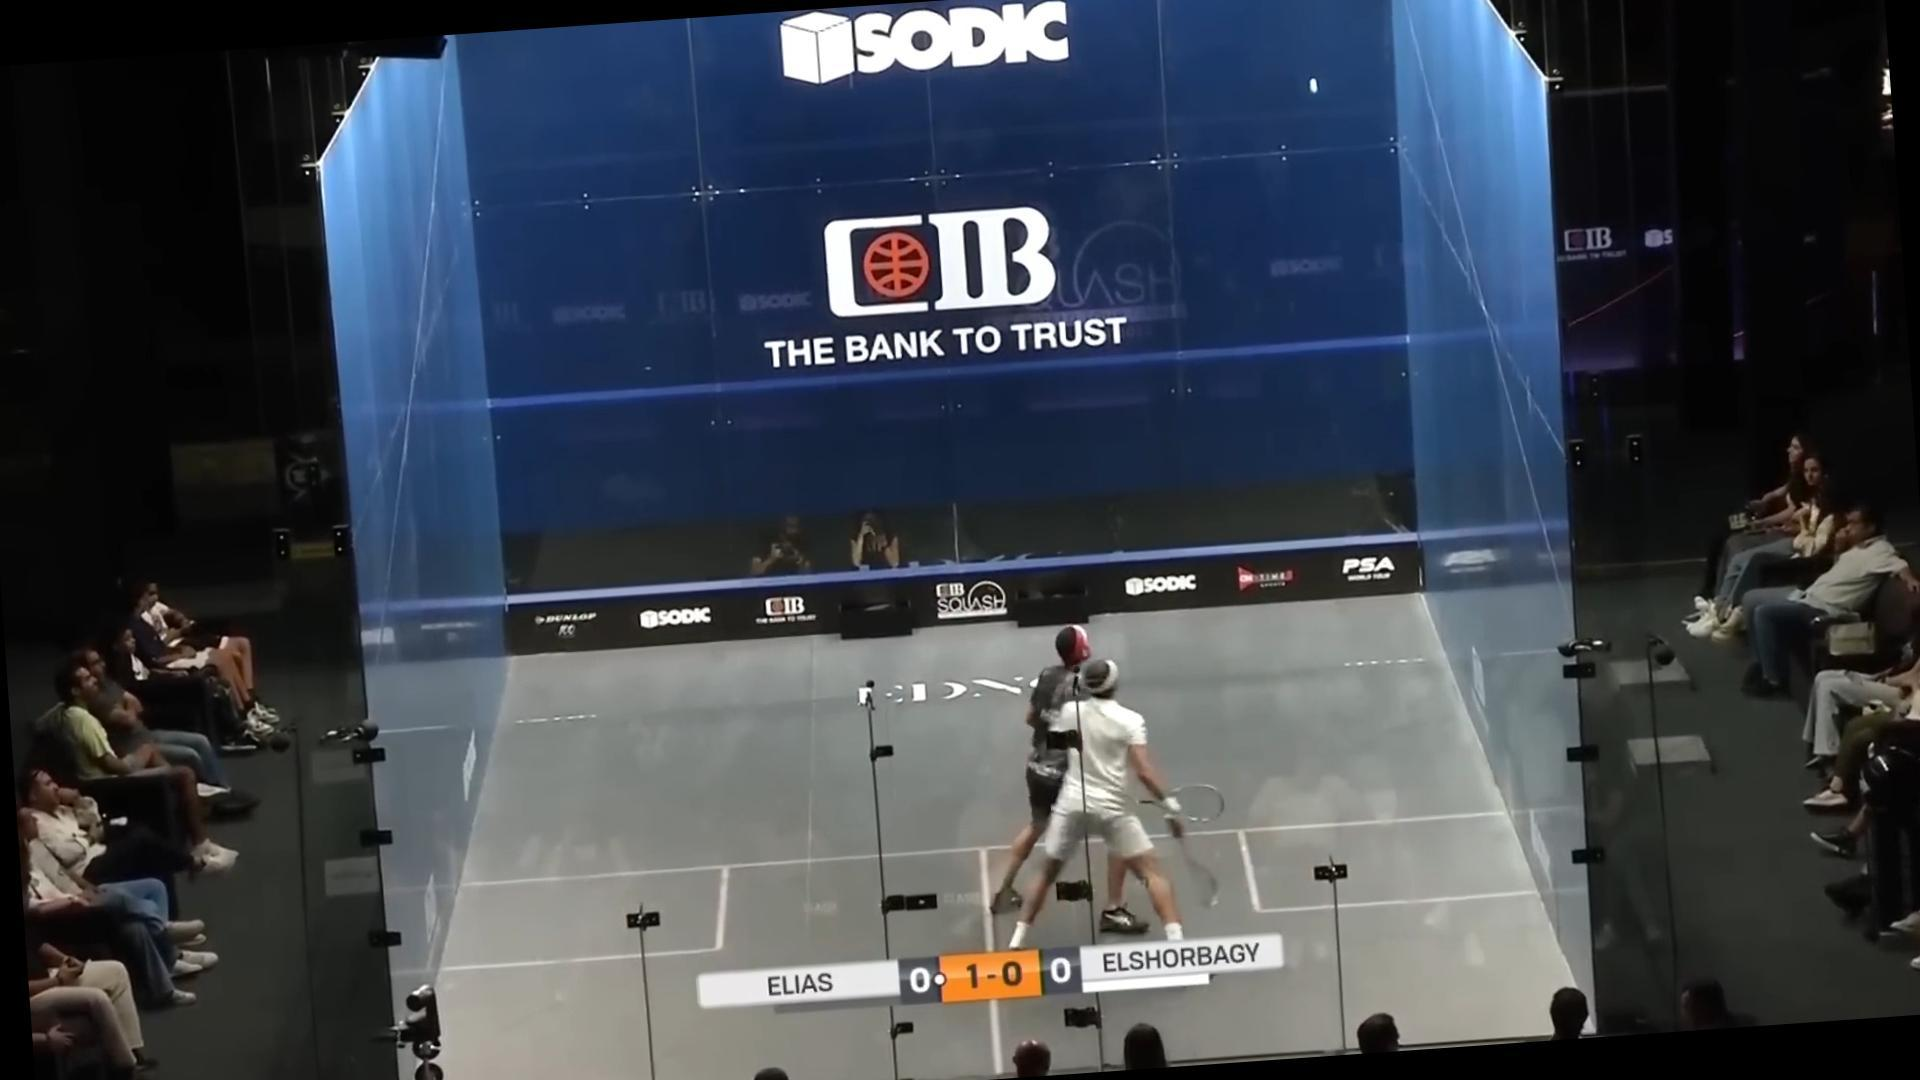Squash-Ball: (1298, 70, 1325, 99)
